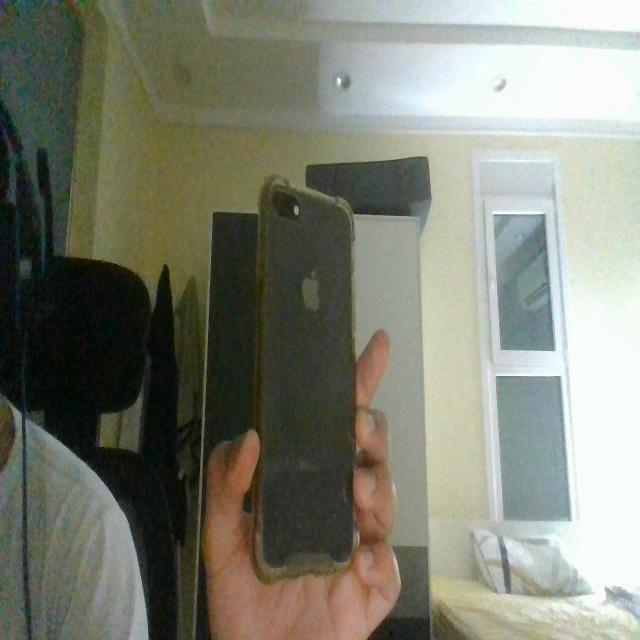Phone: (252, 172, 360, 581)
